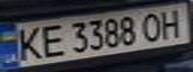3: (84, 17, 109, 52), (66, 19, 90, 54)
8: (118, 12, 142, 46), (103, 16, 124, 48)
E: (36, 21, 69, 59)
H: (154, 7, 190, 39)
K: (9, 24, 48, 62)
O: (136, 10, 169, 43)
